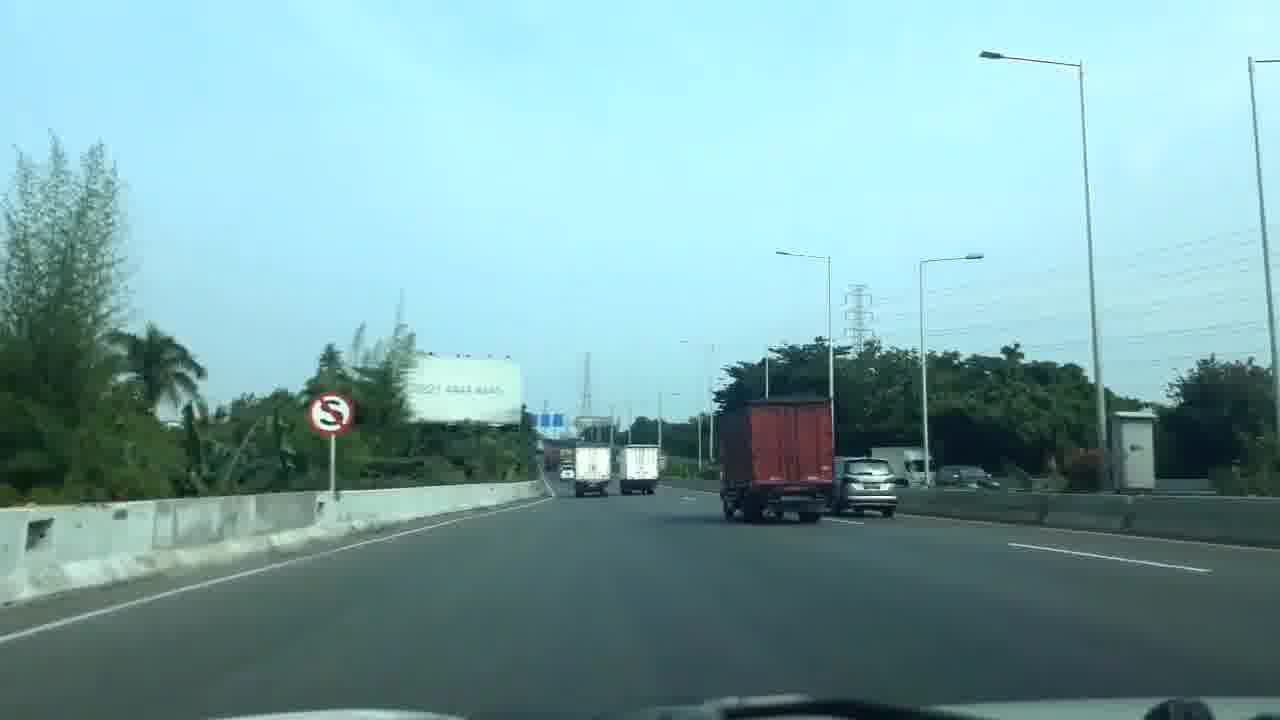plate_positive: (863, 483, 881, 489)
